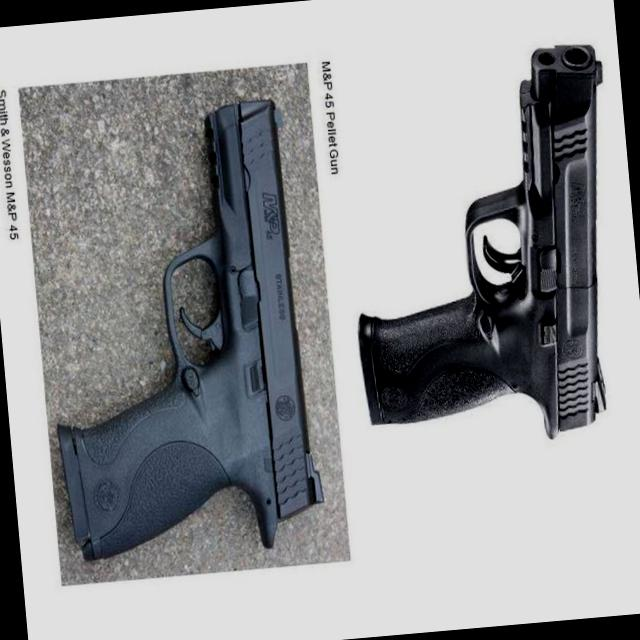handgun: (30, 95, 326, 567), (332, 26, 639, 456)
